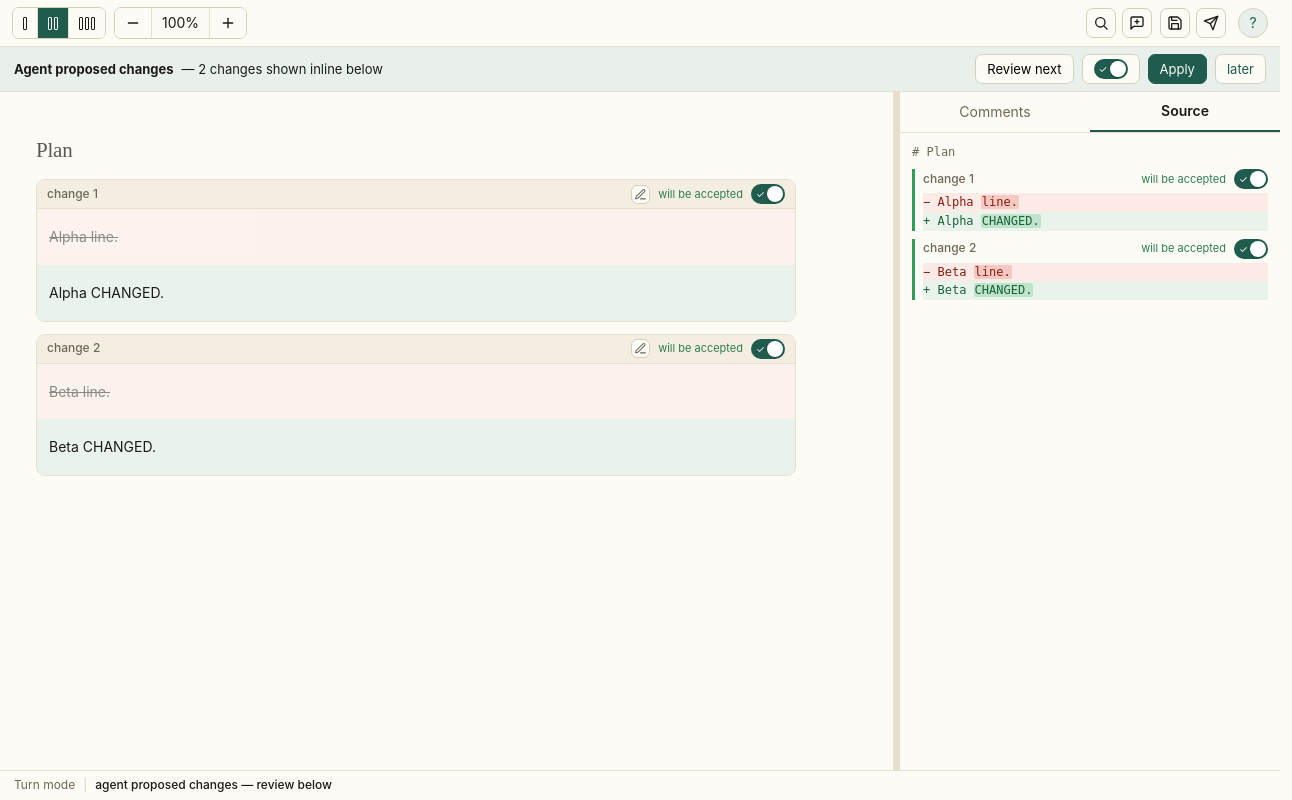
App review diff controls (memory-backed) › shows a per-hunk 'will be accepted/rejected' label and a tri-state that goes mixed
The image size is (1292, 800).
Expected: the checkbox with class "ap-tri--accept" is shown, [1082,54,1140,84]
Note: Reject one hunk → its label flips and the tri-state goes to mixed.
Click the switch named "accept change 1". click: (768, 194)
box: [751,184,785,204]
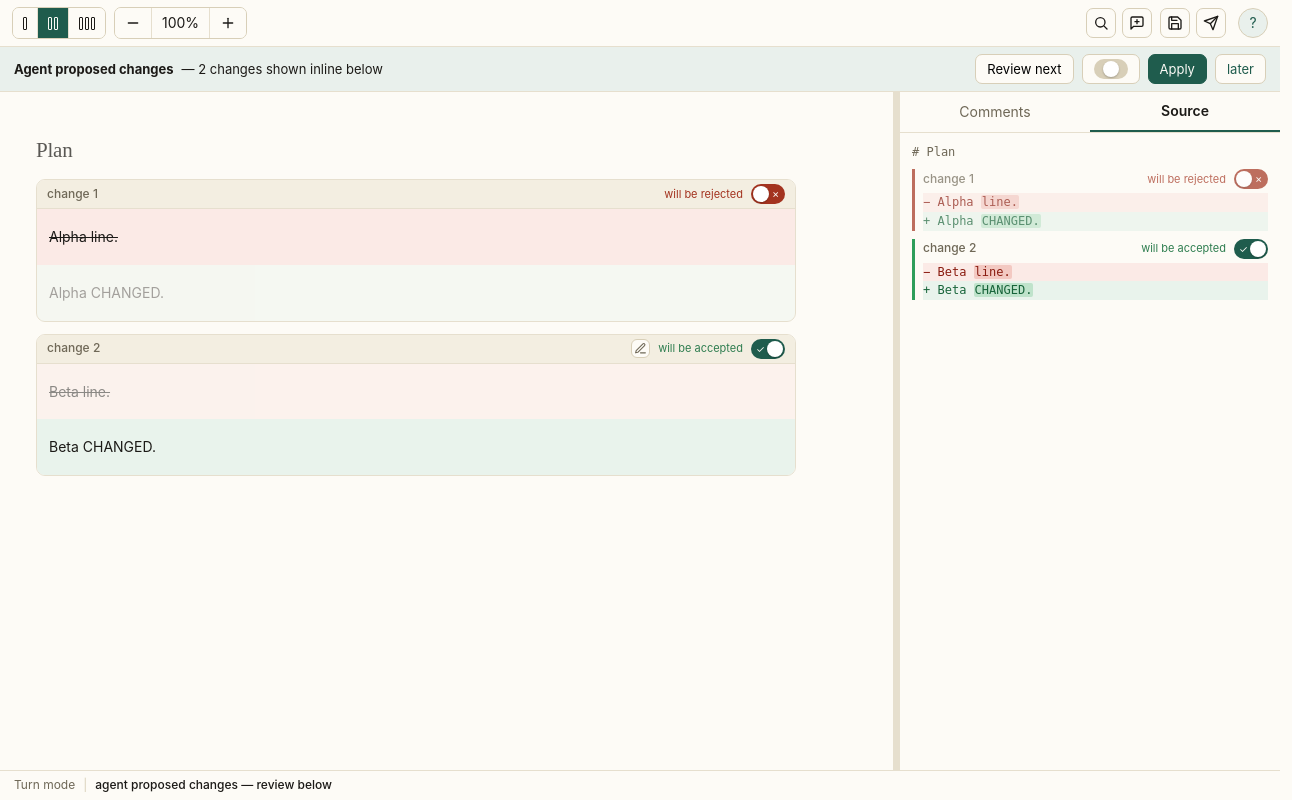
Expected: the checkbox with class "ap-tri--accept" is shown, [1082,54,1140,84]
Expected: the text "will be rejected" is shown, [664,186,743,203]
